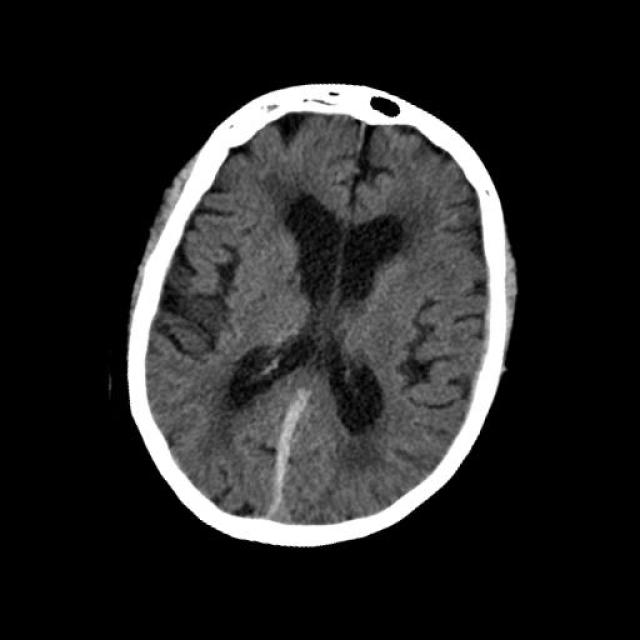Subdural: (200, 364, 356, 550)
